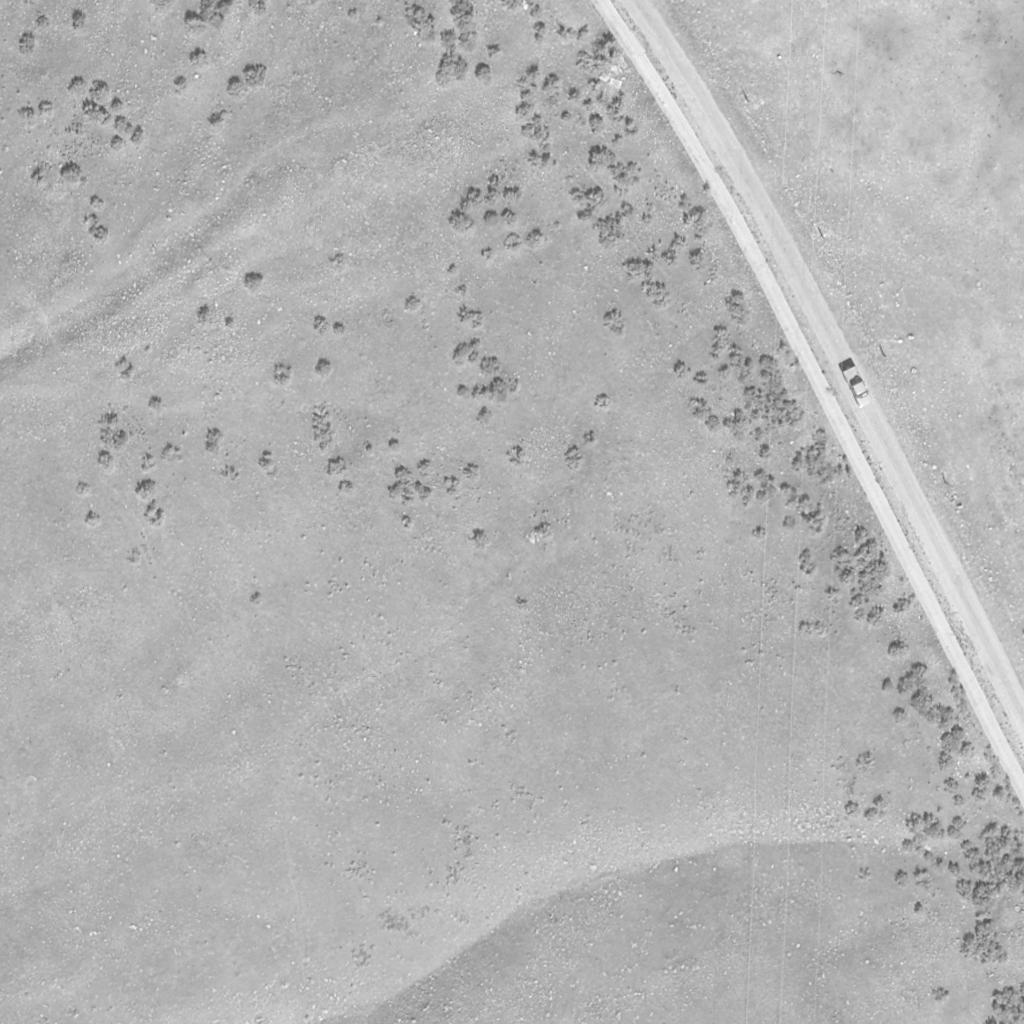vehicle: (840, 365, 874, 411)
